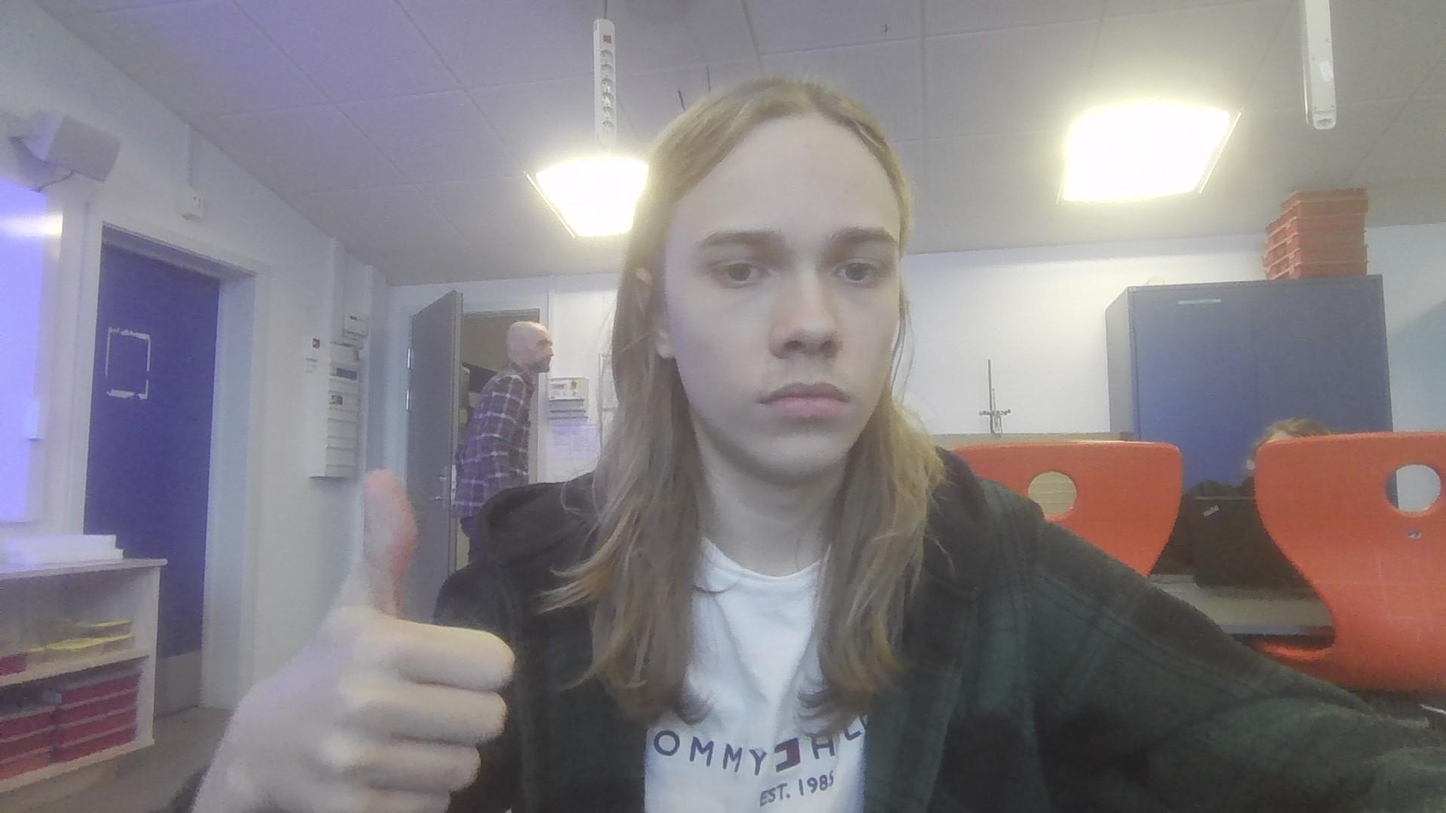thumbs up: (222, 475, 531, 813)
